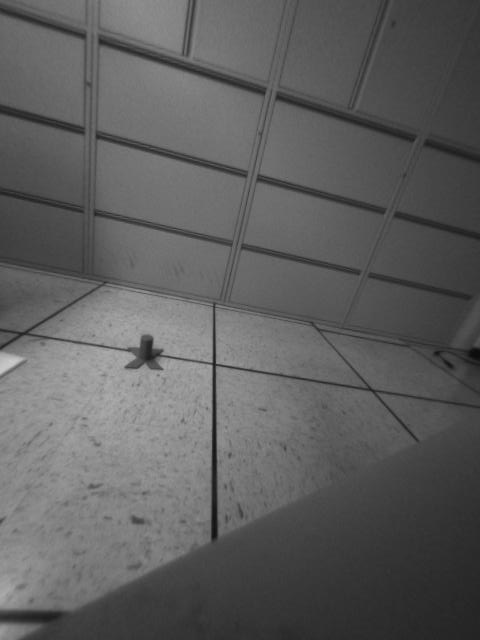X: (124, 336, 165, 371)
